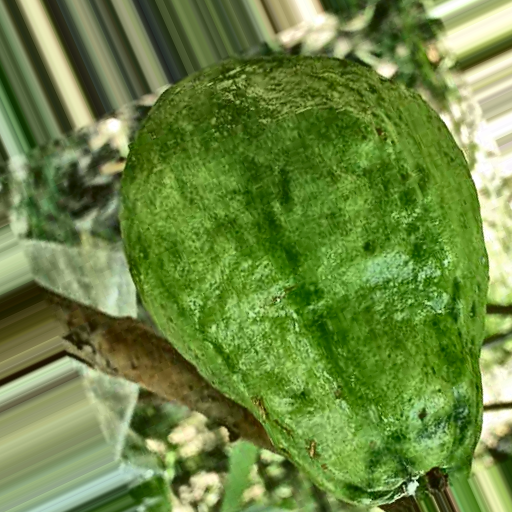guava: (77, 55, 485, 439)
